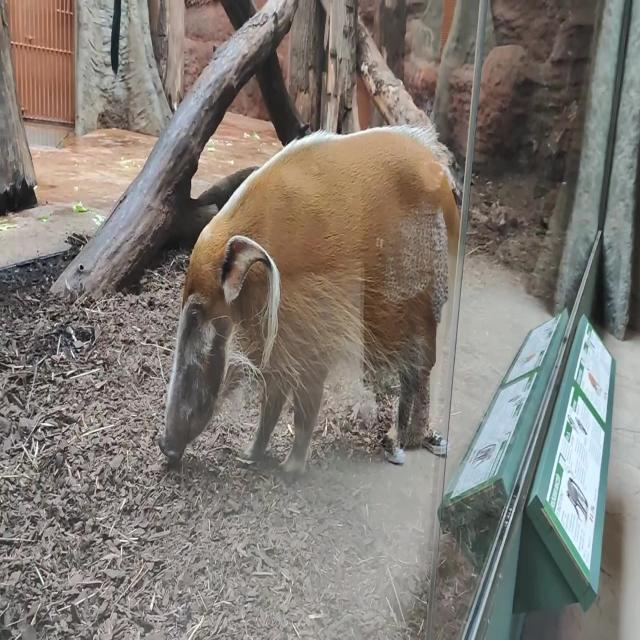boar: (158, 121, 461, 478)
